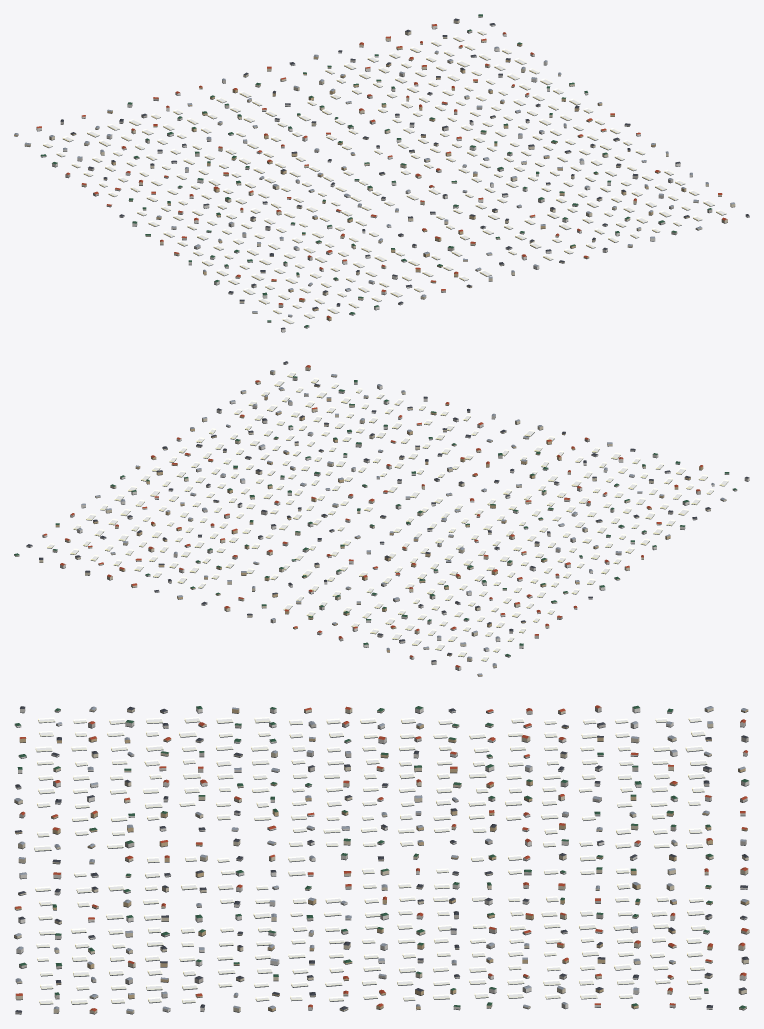
The model's file is buildings_T_E03_S03.glb.
The picture shows the model from 3 angles, top to bottom: view 1: azimuth 30°, elevation 25°; view 2: azimuth 150°, elevation 25°; view 3: azimuth 270°, elevation 25°; orthographic projection. The views are drawn at different scales.
Visible parts, largest first — view 1: T_E03_S03_roofs_agri_greenhouse_arch, T_E03_S03_slope_seating_foundations, T_E03_S03_walls_wall_dalat_cream_stucco, T_E03_S03_walls_wall_modern_warm_white, T_E03_S03_walls_wall_french_ochre_villa, T_E03_S03_roofs_roof_slate_French_villa_hip, T_E03_S03_roofs_roof_pine_green_hip, T_E03_S03_roofs_roof_zinc_silver_gable, T_E03_S03_roofs_roof_terracotta_gable, T_E03_S03_walls_wall_pastel_sand_gray; view 2: T_E03_S03_roofs_agri_greenhouse_arch, T_E03_S03_slope_seating_foundations, T_E03_S03_walls_wall_dalat_cream_stucco, T_E03_S03_walls_wall_modern_warm_white, T_E03_S03_walls_wall_french_ochre_villa, T_E03_S03_roofs_roof_slate_French_villa_hip, T_E03_S03_roofs_roof_zinc_silver_gable, T_E03_S03_roofs_roof_pine_green_hip, T_E03_S03_roofs_roof_terracotta_gable, T_E03_S03_walls_wall_pastel_sand_gray; view 3: T_E03_S03_roofs_agri_greenhouse_arch, T_E03_S03_slope_seating_foundations, T_E03_S03_walls_wall_dalat_cream_stucco, T_E03_S03_walls_wall_modern_warm_white, T_E03_S03_walls_wall_french_ochre_villa, T_E03_S03_roofs_roof_slate_French_villa_hip, T_E03_S03_roofs_roof_zinc_silver_gable, T_E03_S03_roofs_roof_pine_green_hip, T_E03_S03_roofs_roof_terracotta_gable, T_E03_S03_walls_wall_pastel_sand_gray.
Boxes of the visible parts, box(x1,y1,x2,y2) form: T_E03_S03_roofs_agri_greenhouse_arch: box(43, 30, 726, 323); T_E03_S03_slope_seating_foundations: box(14, 17, 749, 332); T_E03_S03_walls_wall_dalat_cream_stucco: box(24, 16, 735, 313); T_E03_S03_walls_wall_modern_warm_white: box(36, 24, 692, 331); T_E03_S03_walls_wall_french_ochre_villa: box(14, 44, 689, 320); T_E03_S03_roofs_roof_slate_French_villa_hip: box(60, 18, 749, 329); T_E03_S03_roofs_roof_pine_green_hip: box(40, 14, 711, 327); T_E03_S03_roofs_roof_zinc_silver_gable: box(14, 46, 734, 315); T_E03_S03_roofs_roof_terracotta_gable: box(37, 24, 727, 317); T_E03_S03_walls_wall_pastel_sand_gray: box(41, 30, 749, 322); T_E03_S03_roofs_agri_greenhouse_arch: box(47, 371, 728, 660); T_E03_S03_slope_seating_foundations: box(14, 363, 749, 676); T_E03_S03_walls_wall_dalat_cream_stucco: box(14, 366, 726, 667); T_E03_S03_walls_wall_modern_warm_white: box(26, 385, 749, 670); T_E03_S03_walls_wall_french_ochre_villa: box(55, 385, 703, 676); T_E03_S03_roofs_roof_slate_French_villa_hip: box(26, 361, 749, 661); T_E03_S03_roofs_roof_zinc_silver_gable: box(77, 370, 726, 675); T_E03_S03_roofs_roof_pine_green_hip: box(14, 376, 736, 656); T_E03_S03_roofs_roof_terracotta_gable: box(43, 365, 702, 667); T_E03_S03_walls_wall_pastel_sand_gray: box(52, 362, 737, 664); T_E03_S03_roofs_agri_greenhouse_arch: box(34, 716, 707, 1004); T_E03_S03_slope_seating_foundations: box(14, 709, 749, 1014); T_E03_S03_walls_wall_dalat_cream_stucco: box(14, 708, 749, 1013); T_E03_S03_walls_wall_modern_warm_white: box(14, 707, 749, 1011); T_E03_S03_walls_wall_french_ochre_villa: box(14, 708, 749, 1011); T_E03_S03_roofs_roof_slate_French_villa_hip: box(15, 706, 748, 1012); T_E03_S03_roofs_roof_zinc_silver_gable: box(14, 706, 748, 1011); T_E03_S03_roofs_roof_pine_green_hip: box(15, 705, 748, 1008); T_E03_S03_roofs_roof_terracotta_gable: box(15, 705, 748, 1011); T_E03_S03_walls_wall_pastel_sand_gray: box(15, 707, 748, 1013).
Bounding box in the file's own units: 1792 × 43.17 × 1790.
